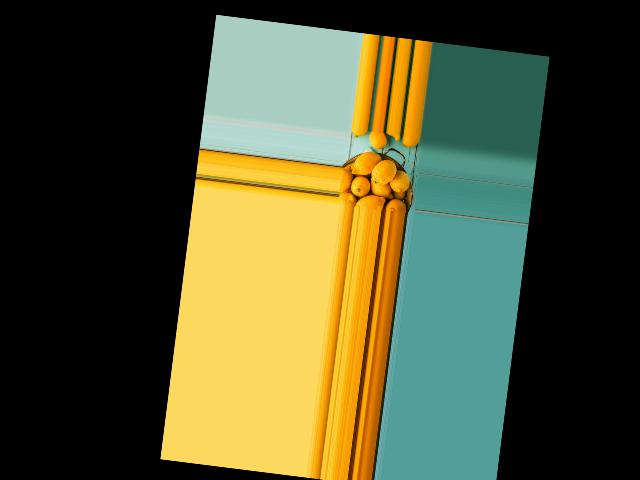lemon: (338, 192, 361, 208)
